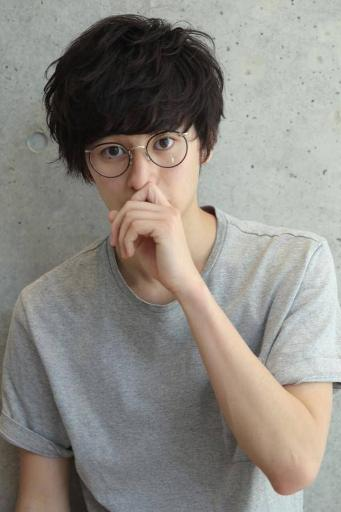left_eye: (153, 137, 181, 154)
right_eye: (99, 144, 130, 162)
